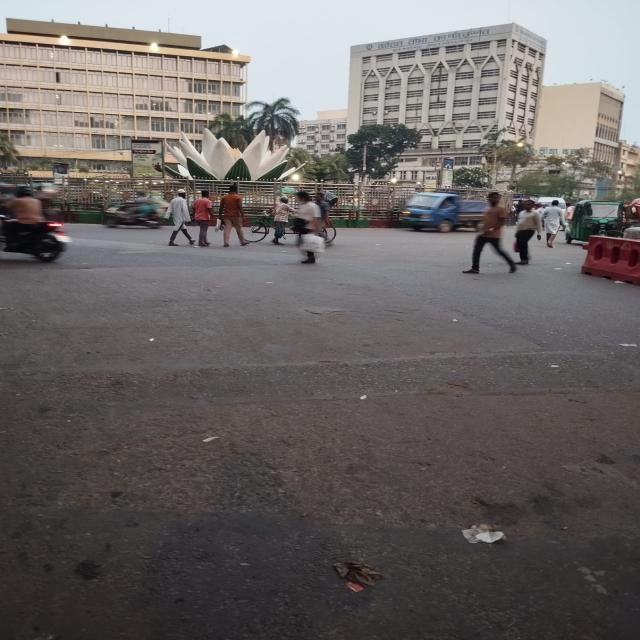person: (462, 192, 518, 275), (292, 189, 323, 270), (514, 199, 542, 270), (219, 184, 250, 248), (162, 189, 195, 249), (540, 200, 566, 252), (193, 189, 214, 249), (313, 192, 333, 230), (564, 202, 575, 221)
